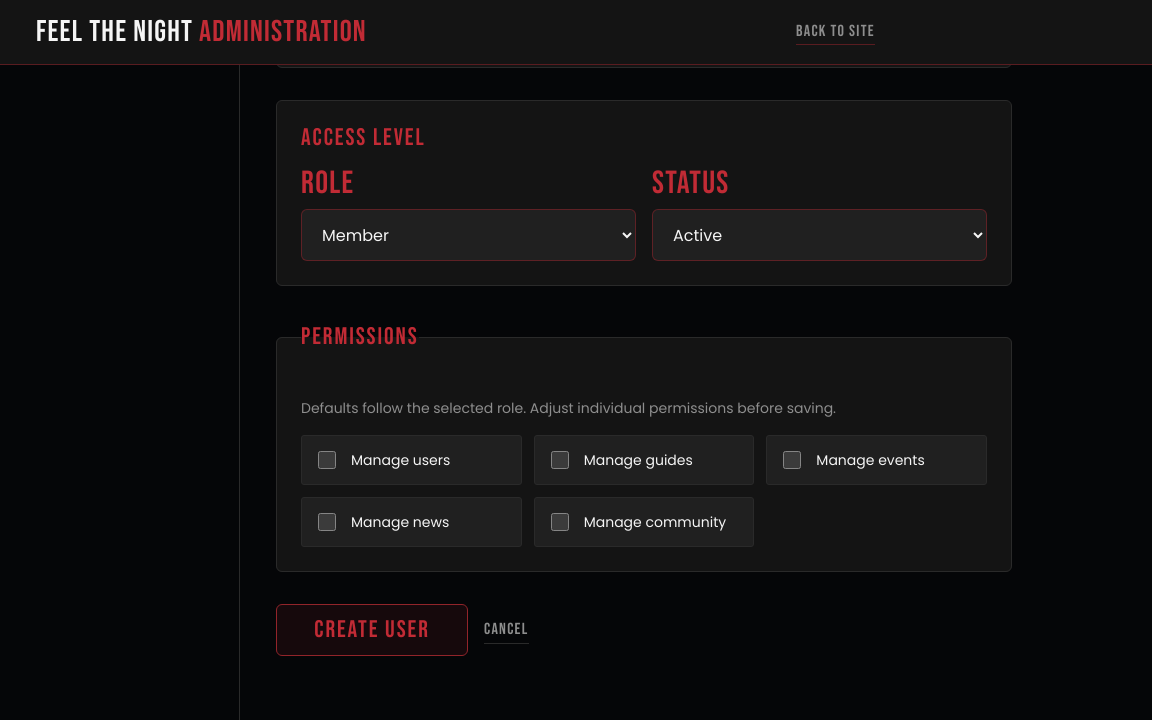
Test: create user › reports invalid input and marks the fields
The image size is (1152, 720).
(page scrolled)
Click the button "Create user" at (372, 630), box [276,604,468,656]
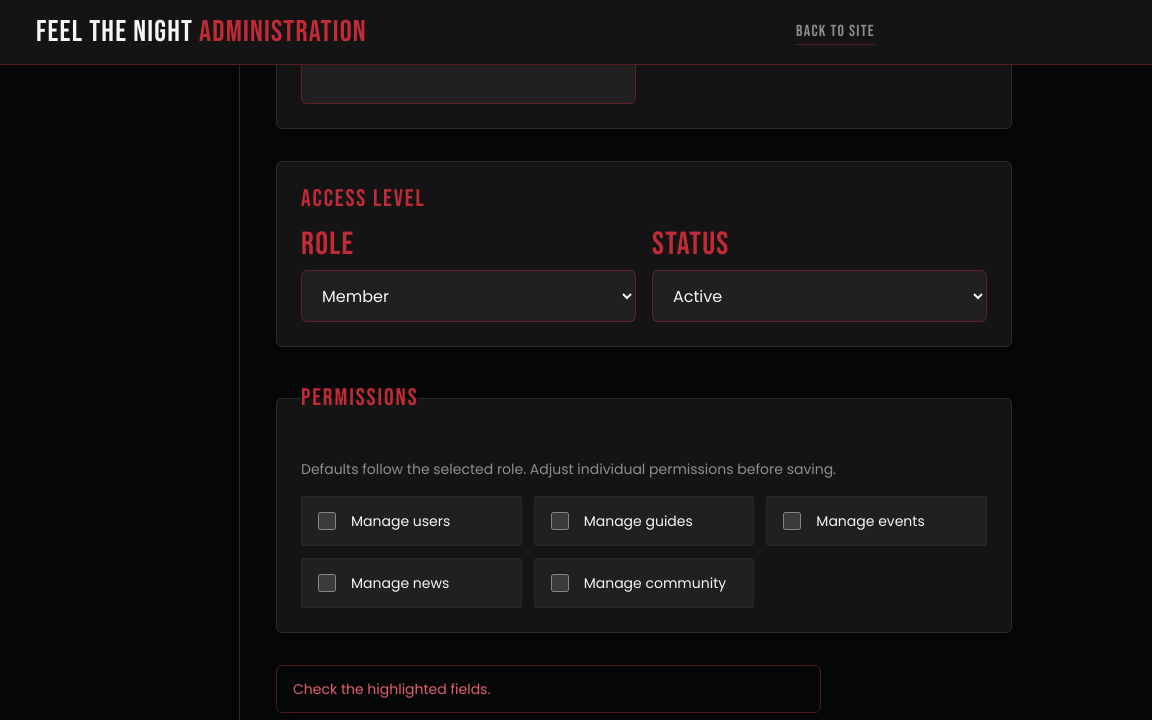
Expected: the message shows "Check the highlighted fields", [293,679,490,699]
